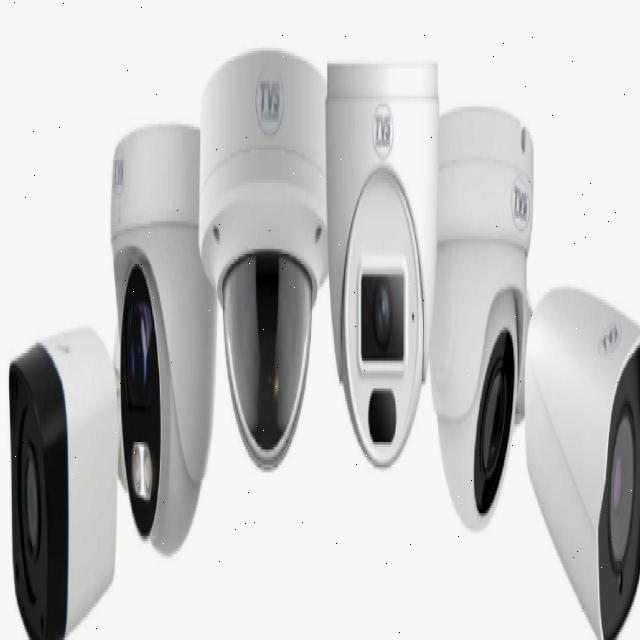cctv: (9, 319, 139, 640), (99, 241, 218, 525), (565, 309, 640, 628), (211, 257, 315, 466), (473, 327, 540, 532), (351, 249, 414, 386)
